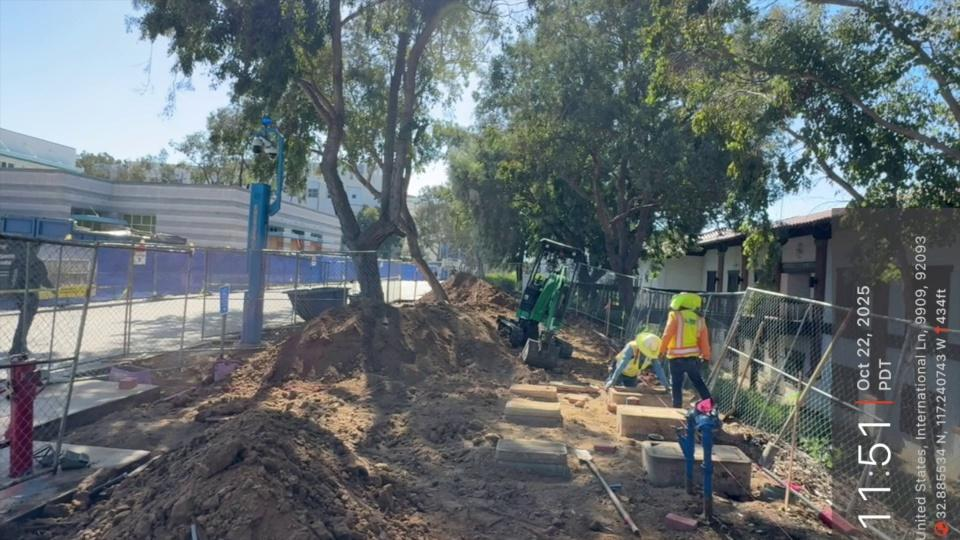Exacavator: (494, 236, 590, 369)
